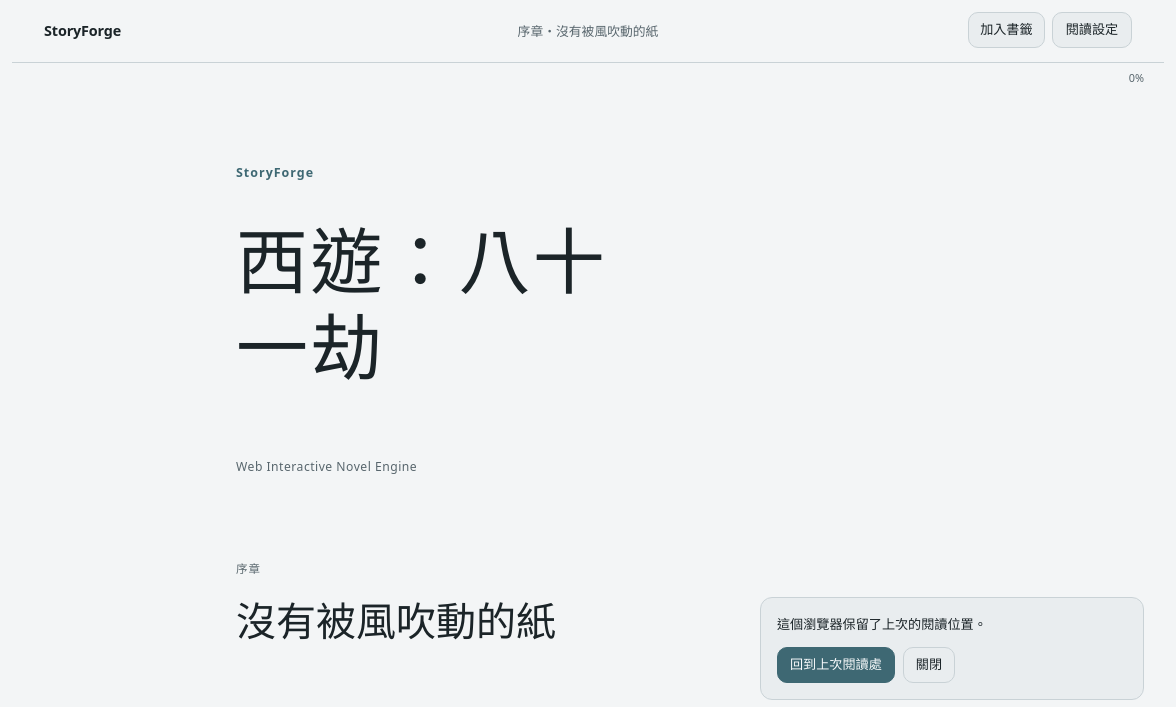
Book reader › allows reading position persistence after resuming a saved Journey position
The width and height of the screenshot is (1176, 707).
Step 1. Click the button "回到上次閱讀處" → [836, 665], box [777, 647, 895, 683]
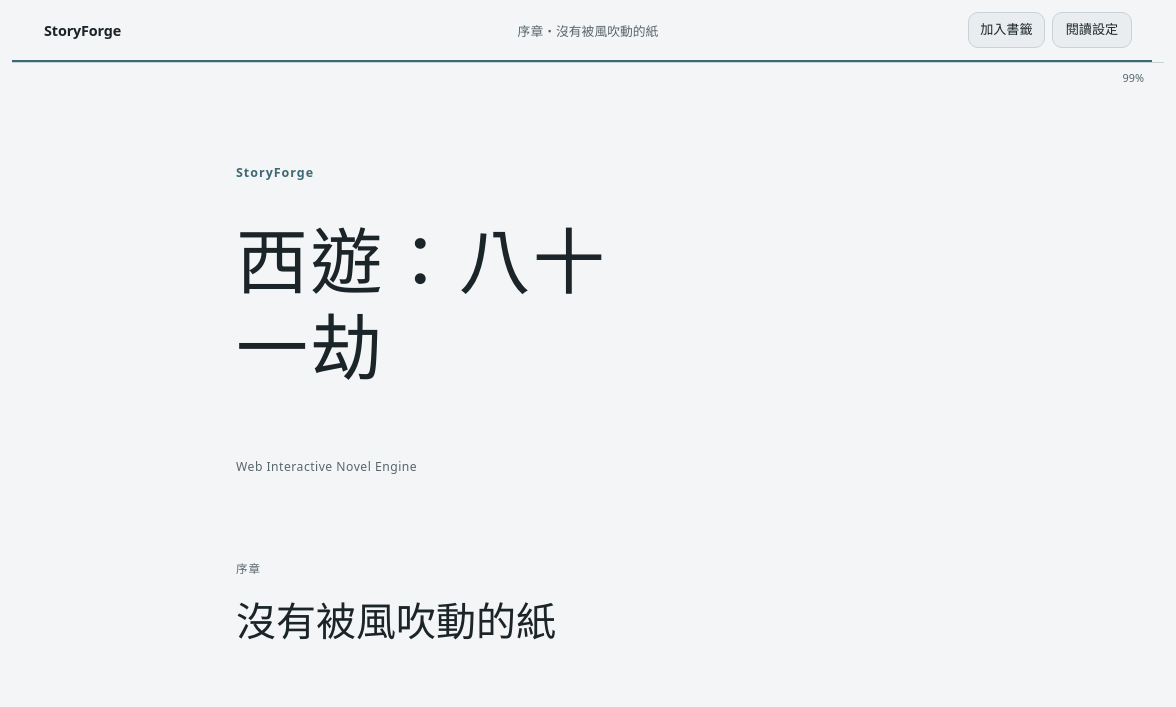
Check: the element "上次閱讀位置" is gone
